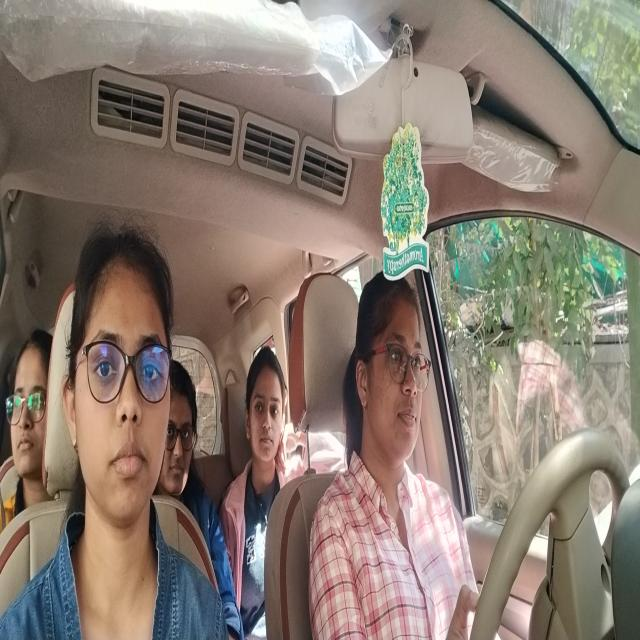person: (68, 226, 172, 525), (352, 260, 431, 505), (1, 327, 49, 501), (244, 339, 286, 486), (166, 333, 197, 511)
